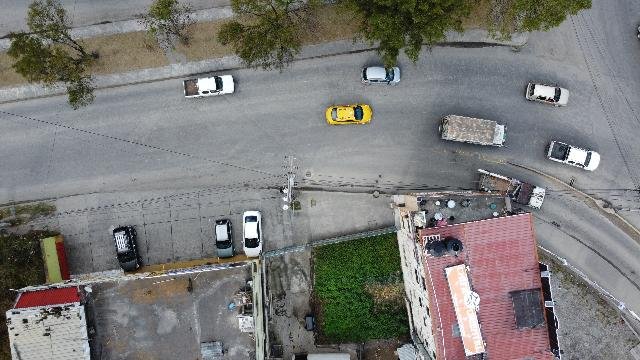Vehiculo: (546, 141, 600, 171), (112, 225, 142, 271), (183, 74, 235, 98), (526, 83, 568, 107), (326, 103, 372, 124), (242, 210, 262, 258), (362, 66, 401, 86), (214, 219, 234, 258)
